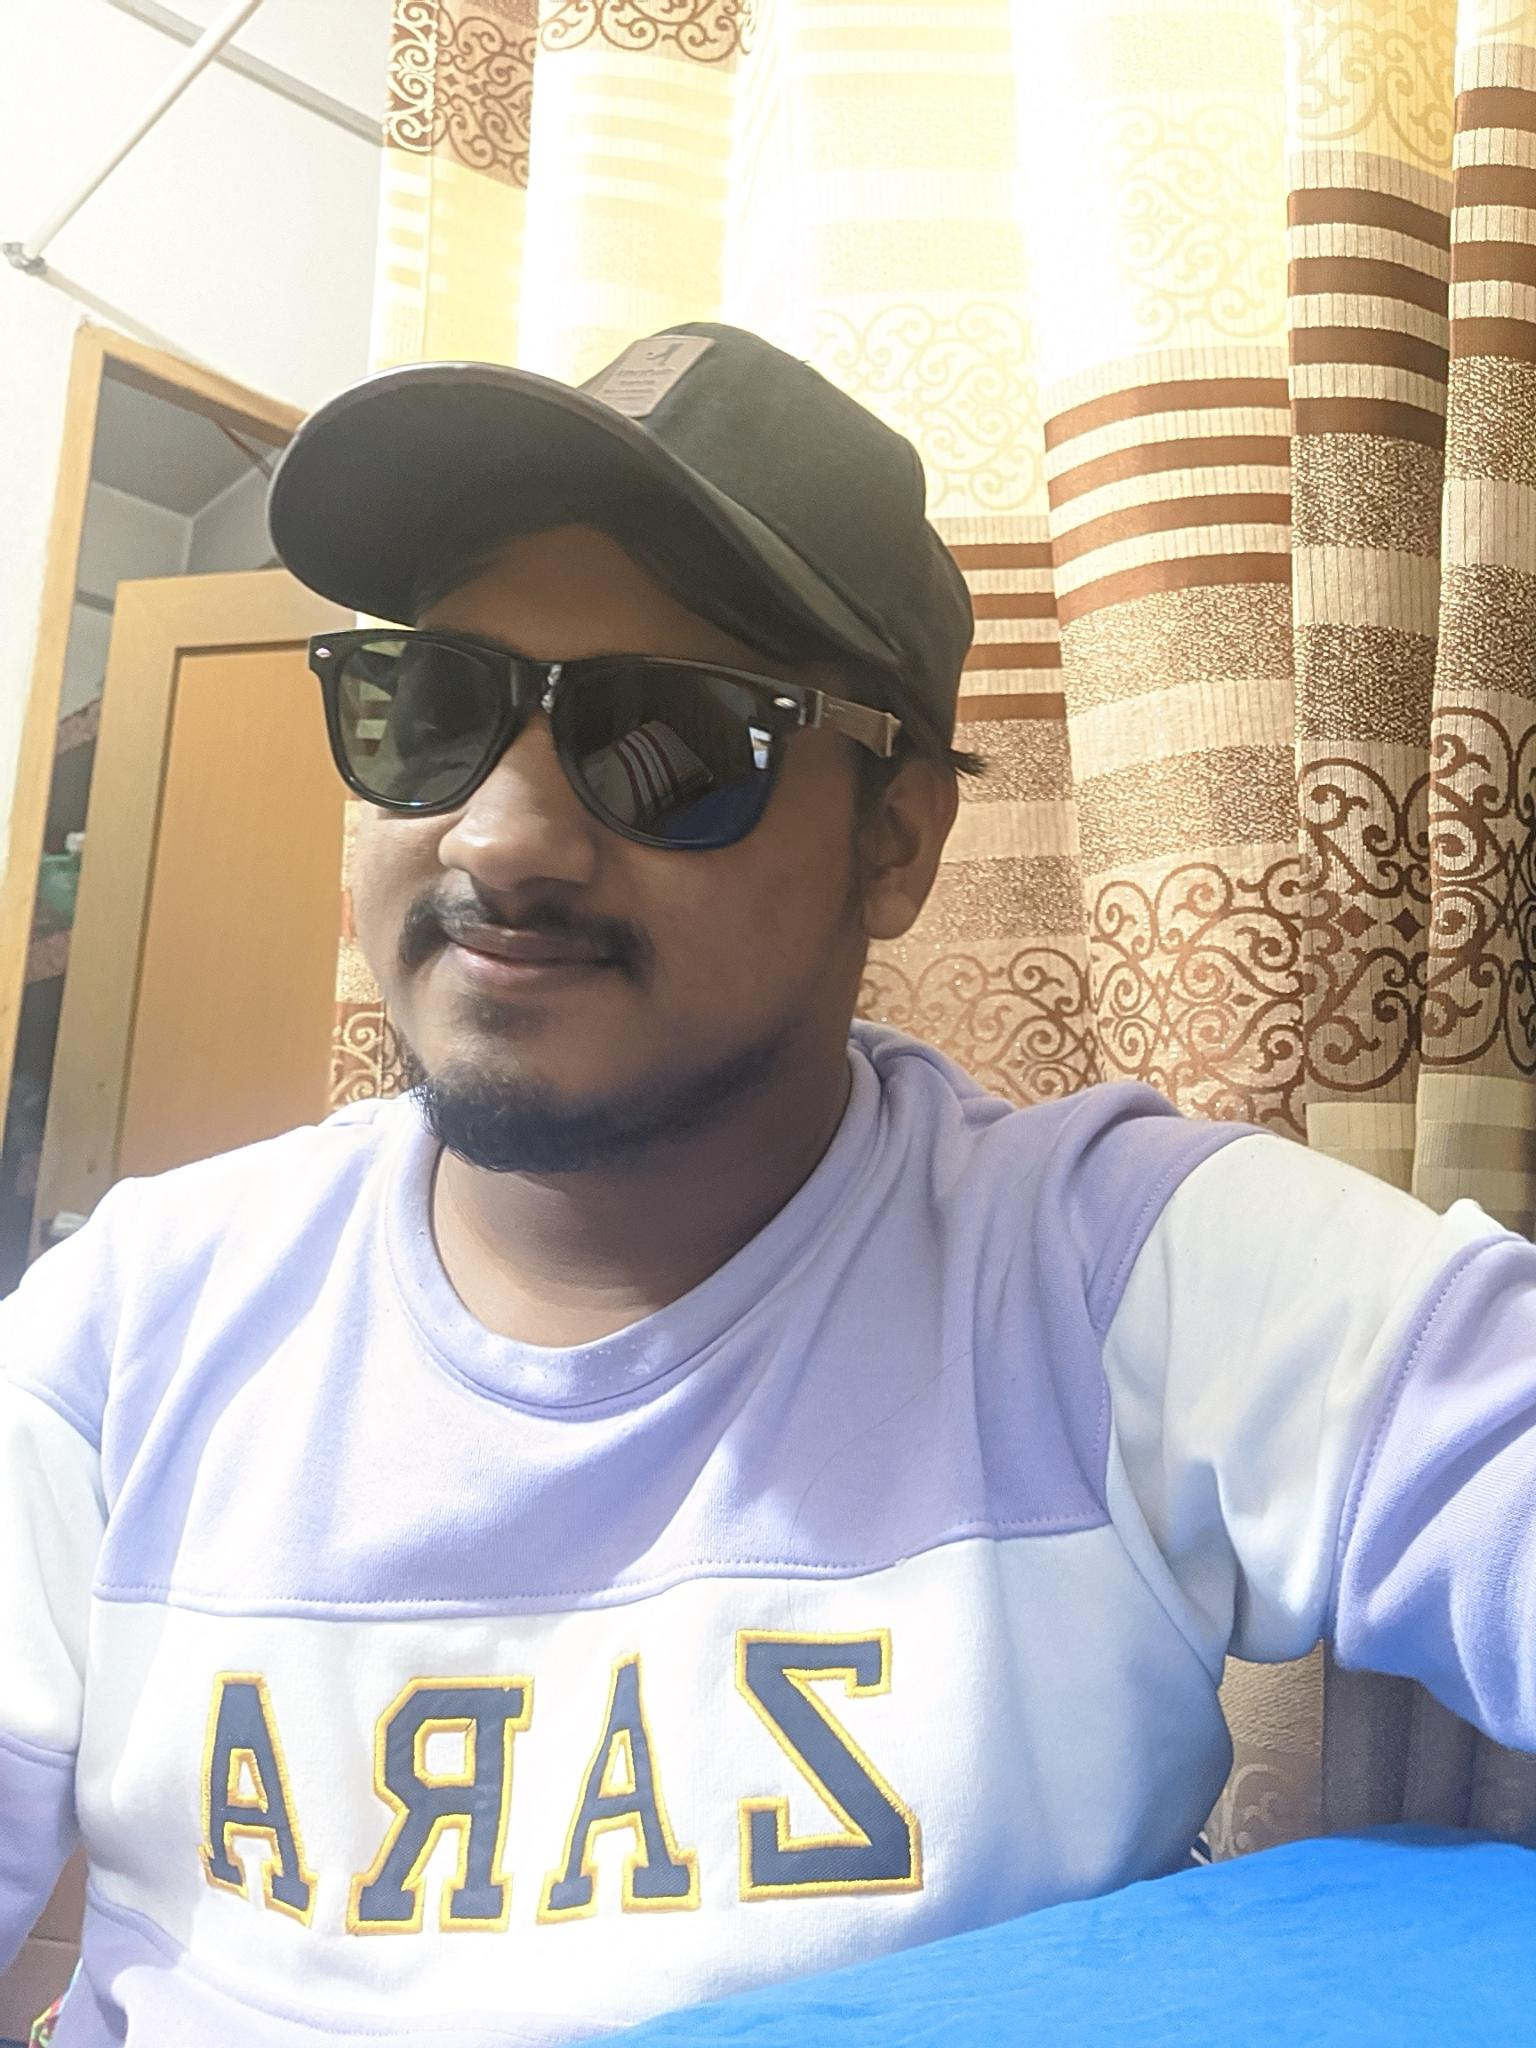Happy: (290, 597, 857, 1159)
